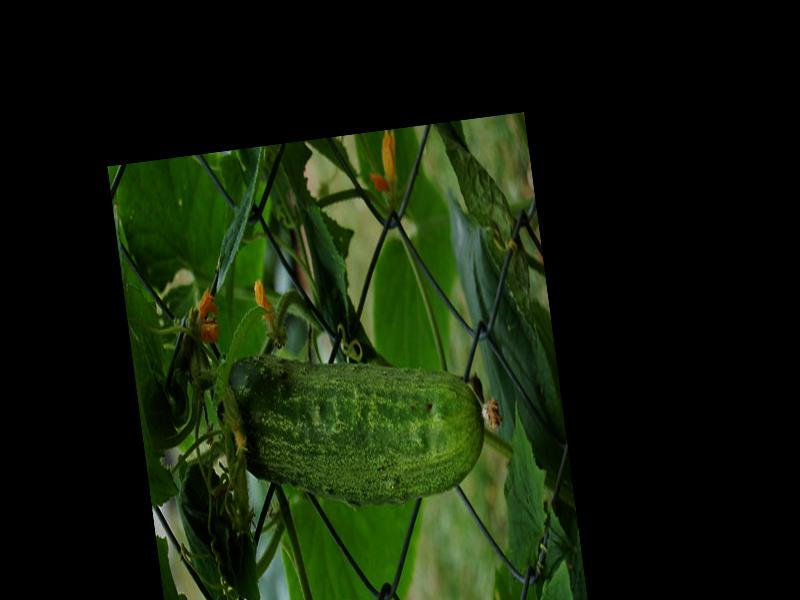Cucumber: (213, 329, 507, 521)
